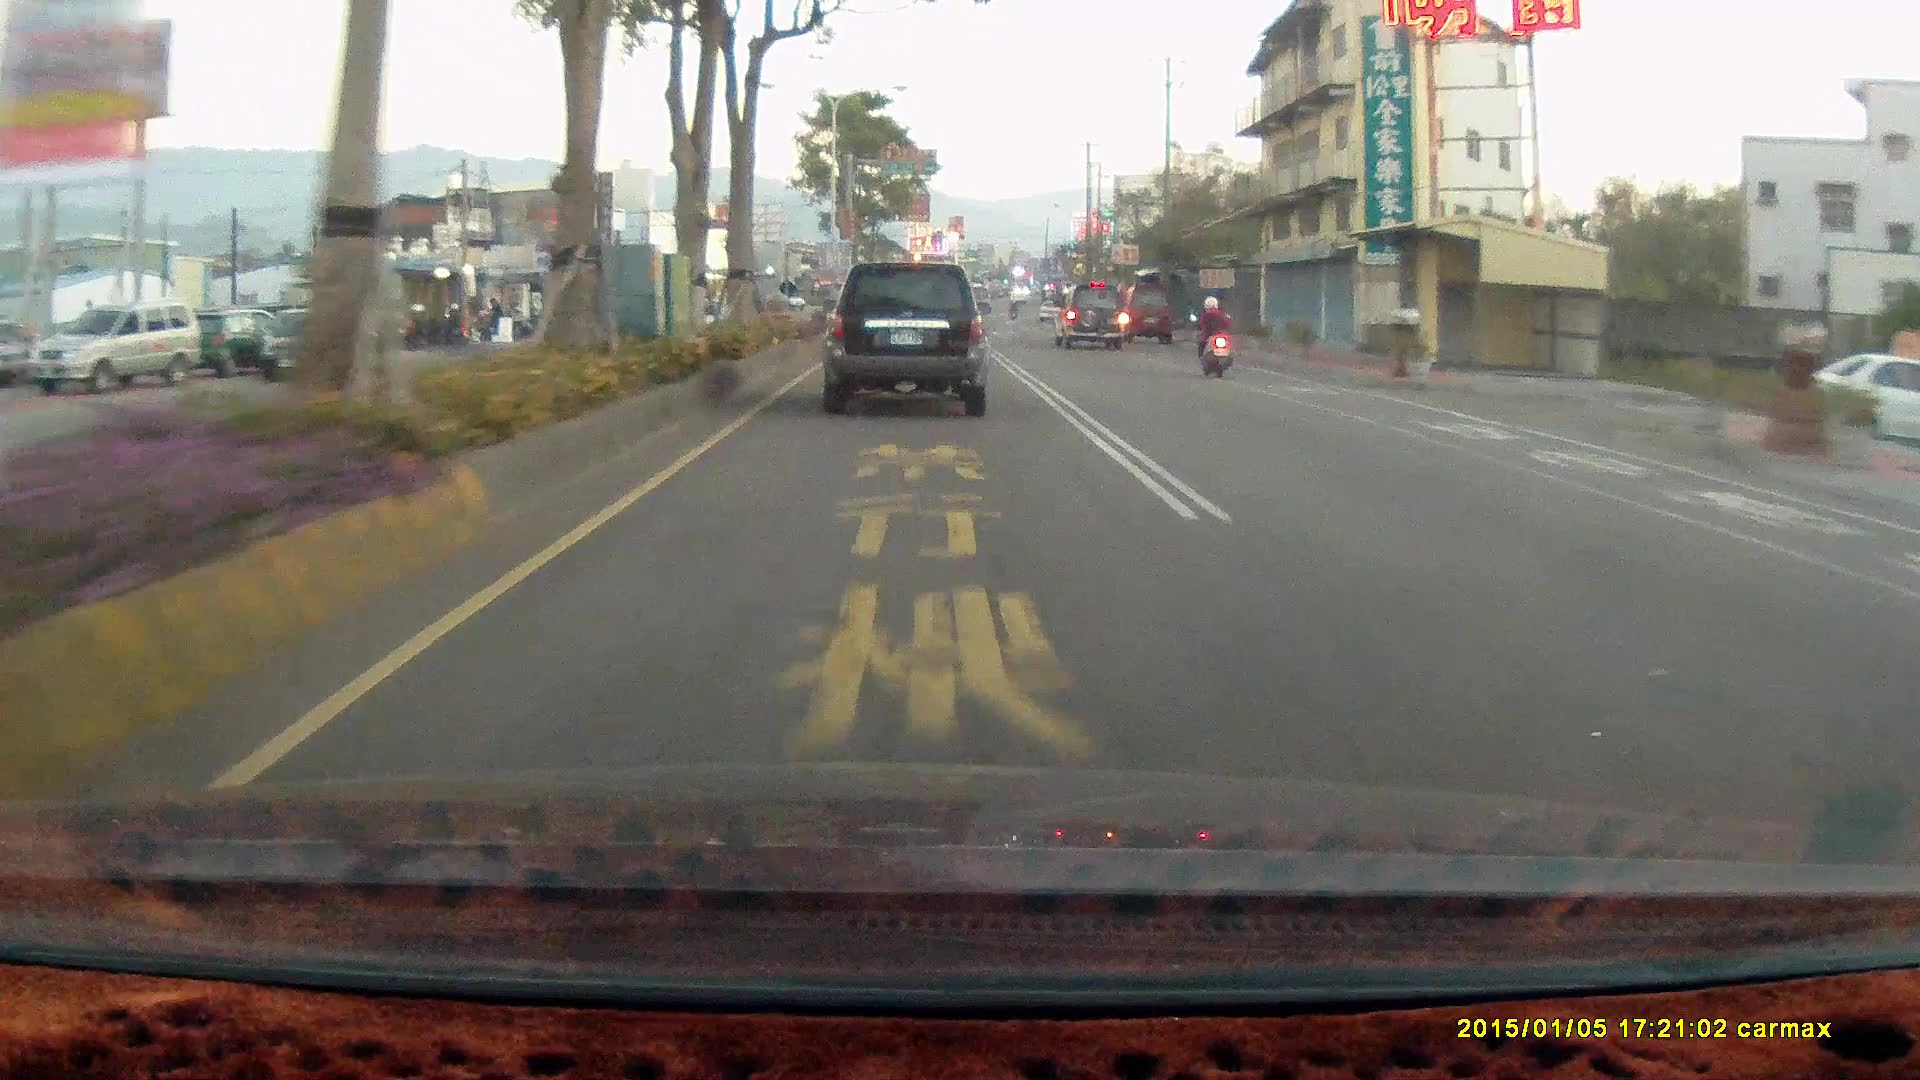rider: (1185, 289, 1241, 382), (1187, 291, 1233, 375), (425, 300, 474, 348)
vehicle: (821, 260, 991, 417), (828, 257, 996, 410), (33, 299, 202, 399), (27, 298, 199, 394), (1784, 354, 1920, 452), (1783, 353, 1920, 450), (249, 313, 379, 386), (255, 313, 385, 381), (1057, 281, 1135, 354), (1050, 281, 1126, 348), (1119, 286, 1173, 345), (1119, 285, 1172, 343)
